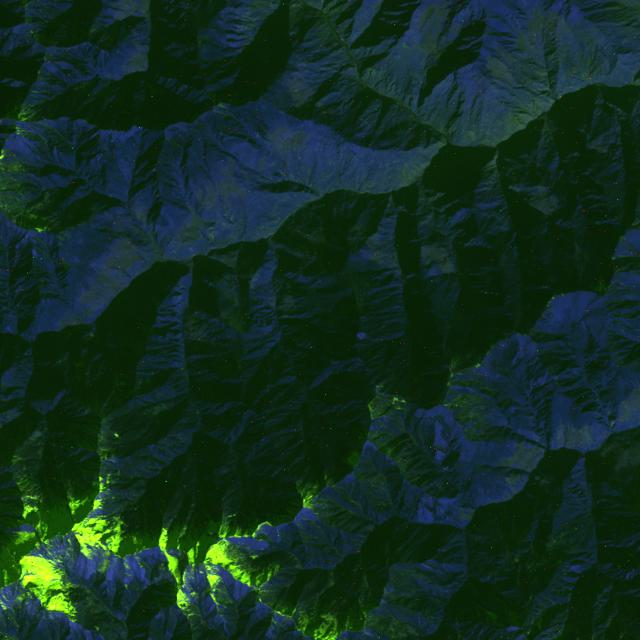landslides: (203, 561, 223, 581), (375, 372, 393, 392), (208, 227, 218, 249), (419, 229, 438, 240), (583, 398, 600, 408)
